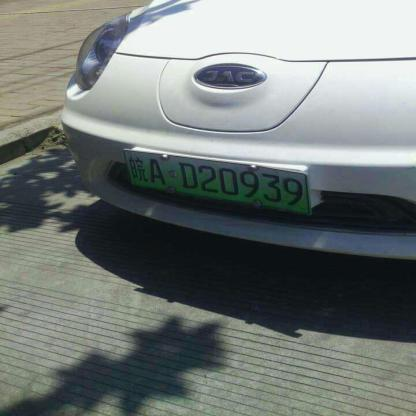lp: (123, 150, 307, 212)
